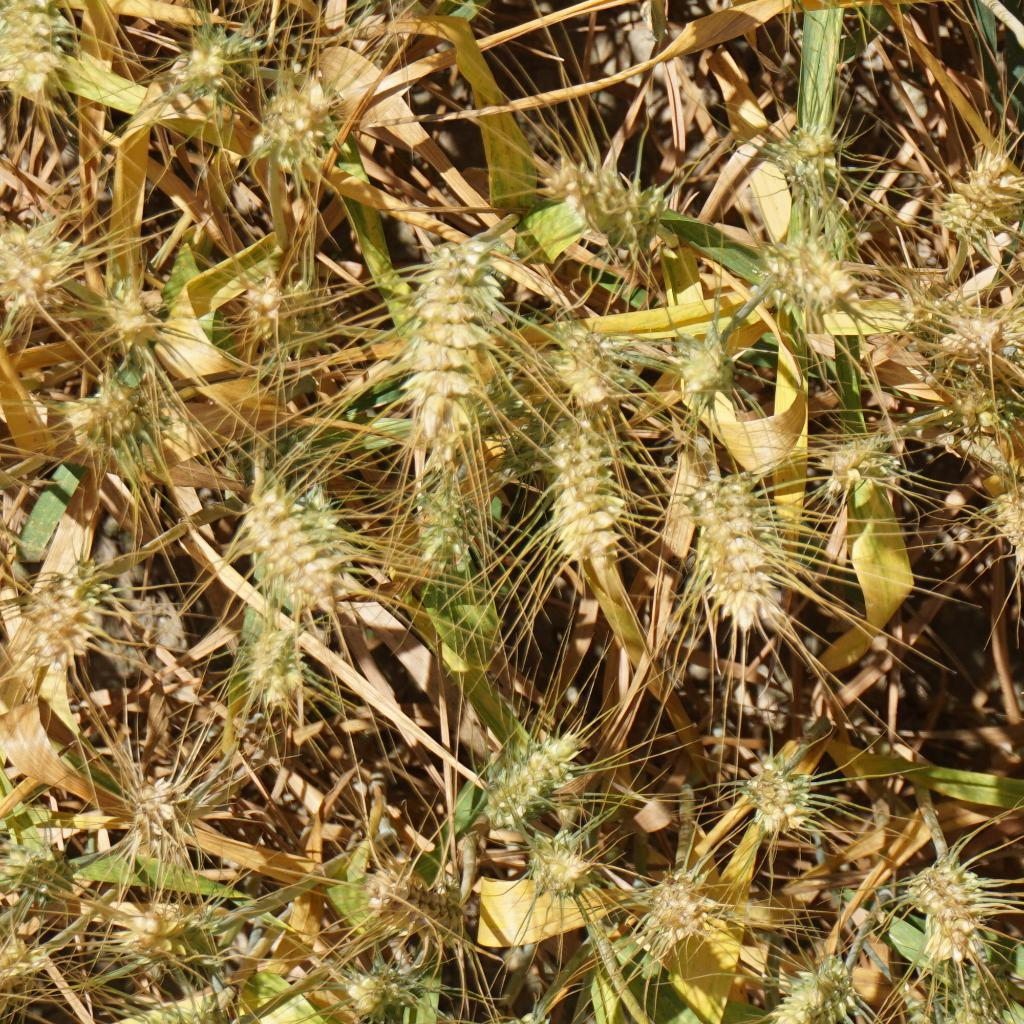0-0: (399, 250, 506, 433), (685, 477, 792, 628), (540, 412, 628, 568), (239, 490, 332, 615), (554, 144, 662, 246), (931, 140, 1020, 260), (400, 452, 480, 568), (8, 561, 96, 664), (362, 868, 479, 945), (169, 9, 259, 108), (476, 718, 574, 806), (912, 850, 991, 956), (71, 365, 155, 462), (760, 244, 864, 321), (3, 838, 92, 920), (516, 825, 611, 900), (240, 617, 307, 723), (0, 216, 64, 324), (928, 288, 1016, 365), (288, 473, 356, 571), (651, 321, 740, 395), (126, 762, 204, 843), (638, 863, 719, 940), (819, 413, 901, 489), (246, 76, 315, 164), (935, 369, 1020, 440), (0, 0, 64, 92), (777, 951, 857, 1024), (540, 324, 621, 396), (352, 945, 432, 1016), (106, 278, 170, 356), (236, 268, 290, 348), (743, 753, 812, 815), (776, 113, 839, 180), (129, 901, 193, 964), (0, 935, 43, 1024), (991, 479, 1024, 566)
